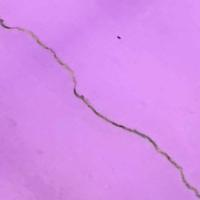crack: (0, 15, 199, 192)
